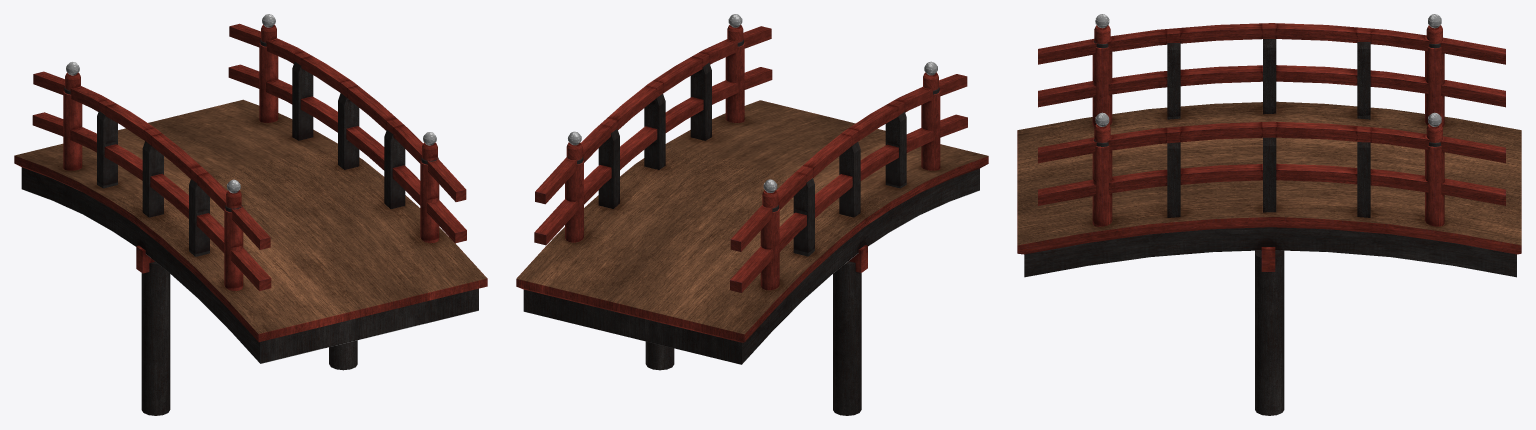
Rendered from NNJ0710005.fbx.
The picture shows the model from 3 angles, left to right: view 1: azimuth 30°, elevation 25°; view 2: azimuth 150°, elevation 25°; view 3: azimuth 270°, elevation 25°; orthographic projection. The views are drawn at different scales.
Parts seen in each view (by area): view 1: smNNJ0710005; view 2: smNNJ0710005; view 3: smNNJ0710005.
Part boxes in pixels (x1,y1,x2,y2): smNNJ0710005: [14, 14, 487, 415]; smNNJ0710005: [516, 14, 988, 415]; smNNJ0710005: [1017, 14, 1521, 415].
Bounding box in the file's own units: 282 × 341 × 522.
1 material, 1 textured.
